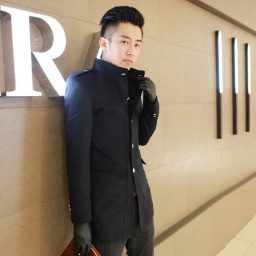face: (100, 4, 144, 72)
